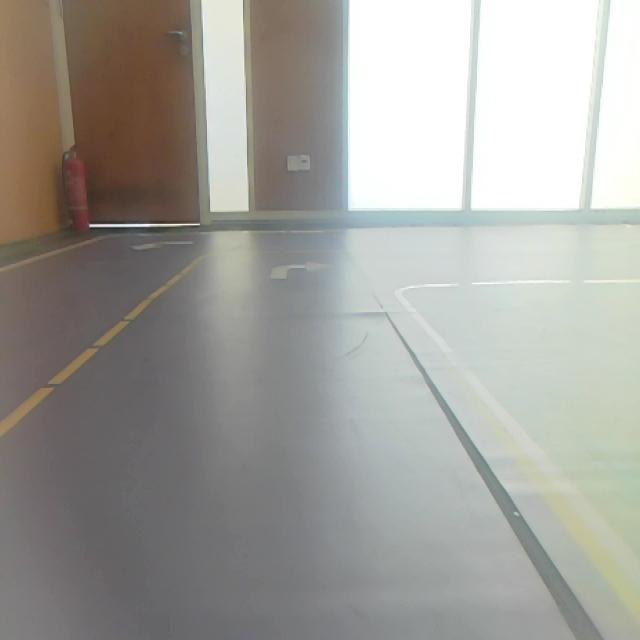left_lane: (0, 251, 209, 437)
right_lane: (393, 291, 640, 626)
